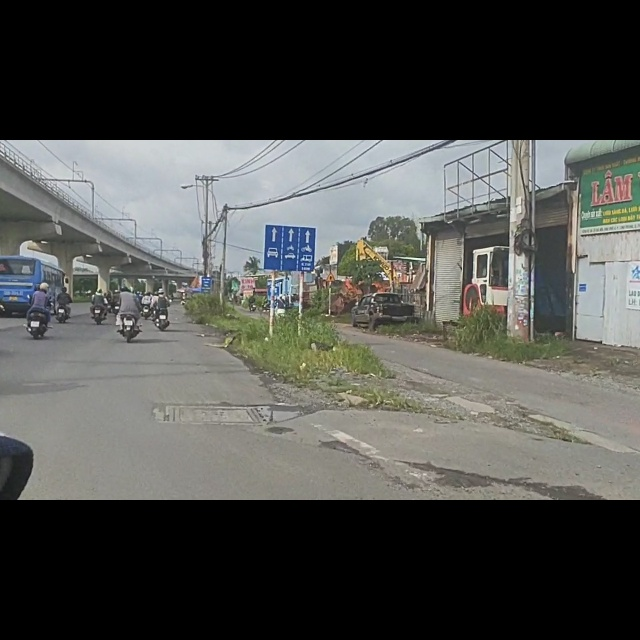bien_nguy_hiem: (262, 148, 317, 235), (325, 235, 337, 252)
